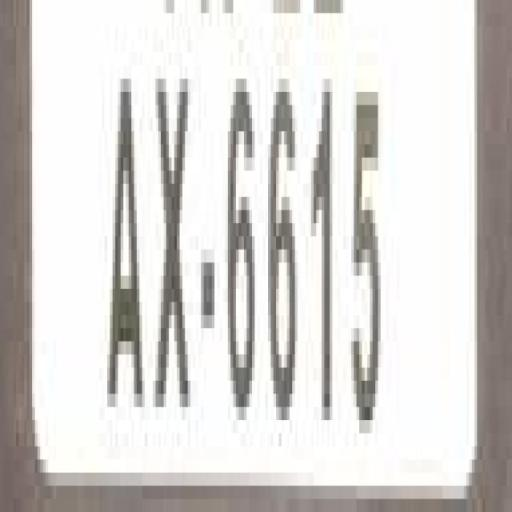number plate: (22, 0, 502, 512)
